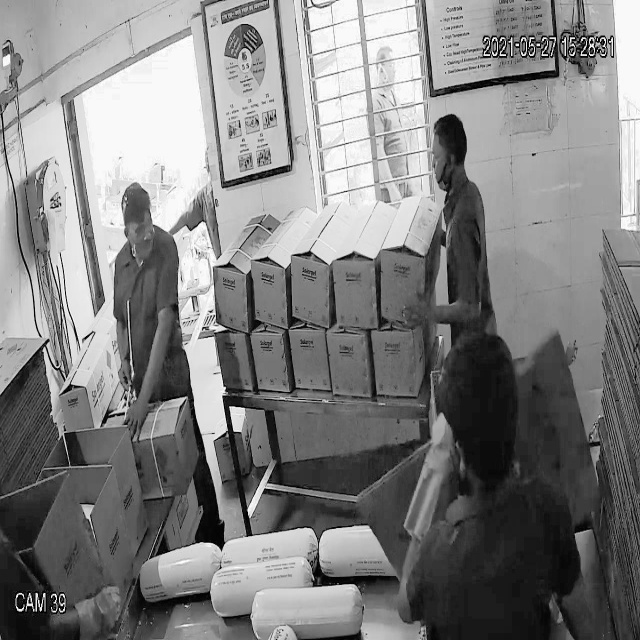Sin_gafas: (121, 215, 155, 240)
